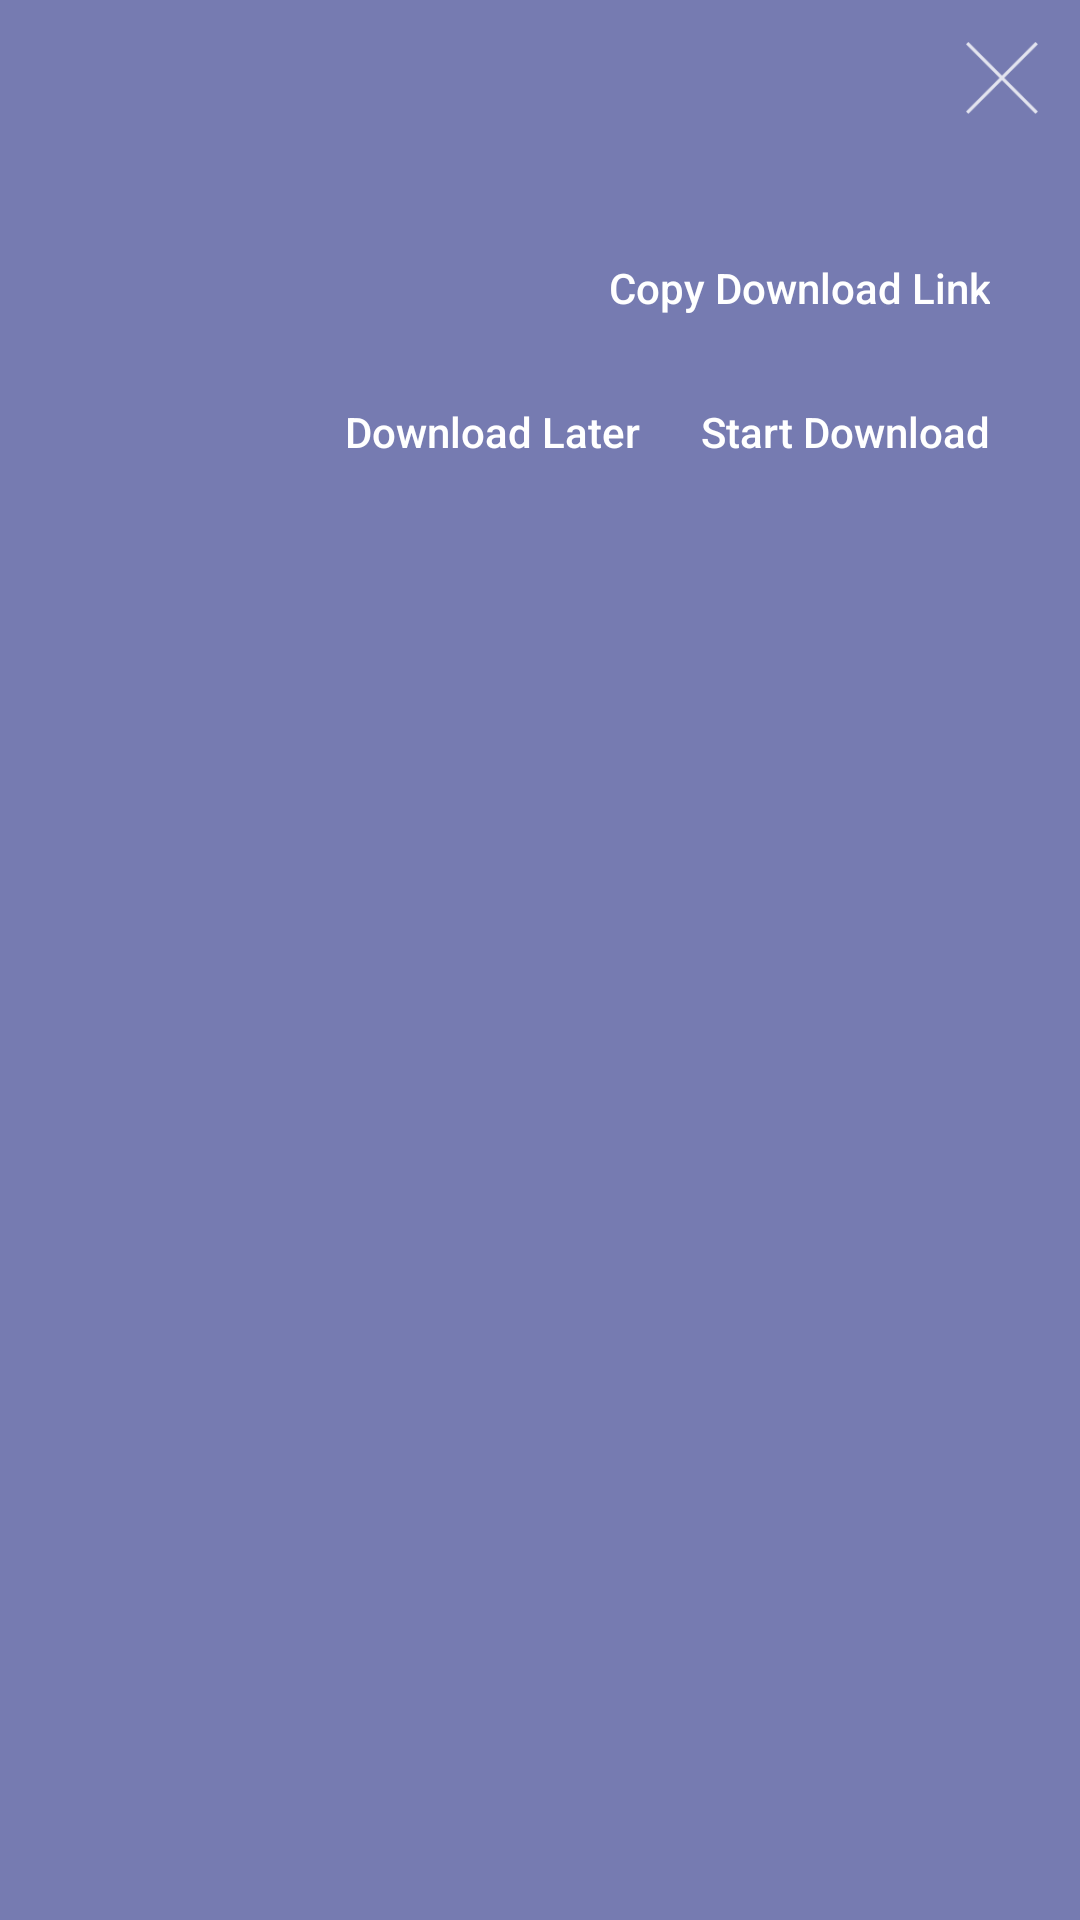

Where to tap for icons on this 1080 x 1920 app screen, as point (x, y):
close: point (1002, 78)
